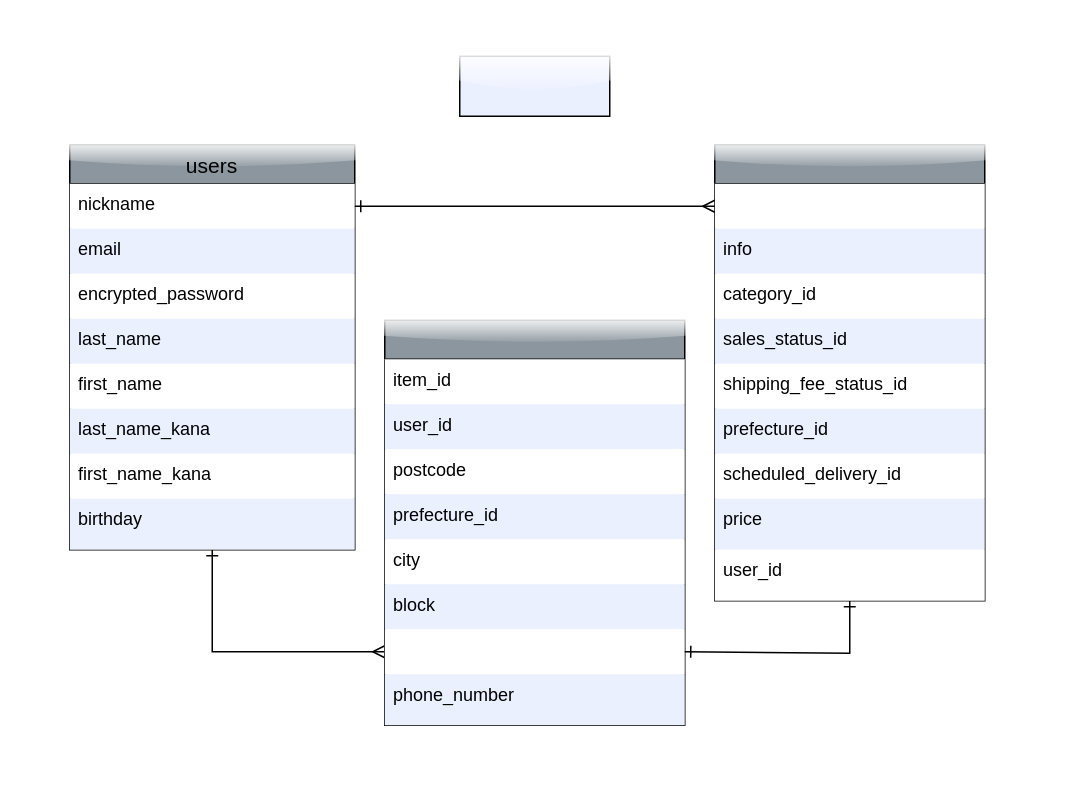
Image size: 1070x801. Some labels were removed from this diagram. Each missing label, with the box of its shape:
building: (384, 628, 684, 674)
furima-38380 ER図: (458, 55, 610, 116)
items: (713, 143, 985, 601)
name: (714, 183, 984, 228)
purchases: (383, 319, 685, 725)
